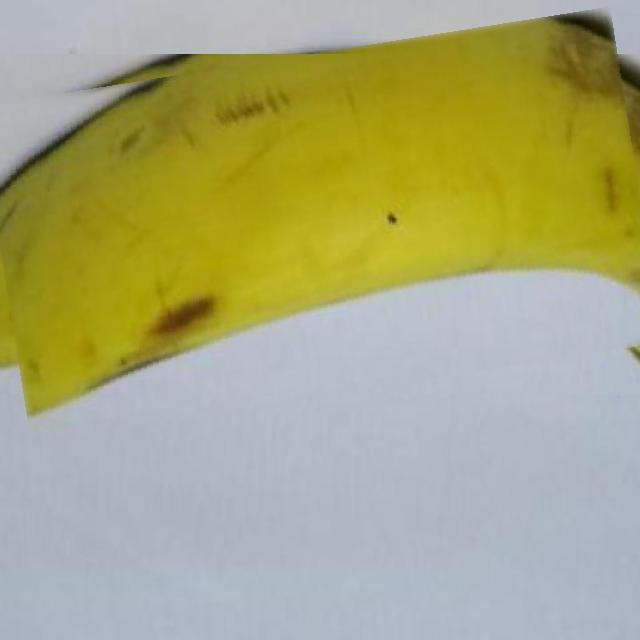Madura: (0, 31, 640, 418)
